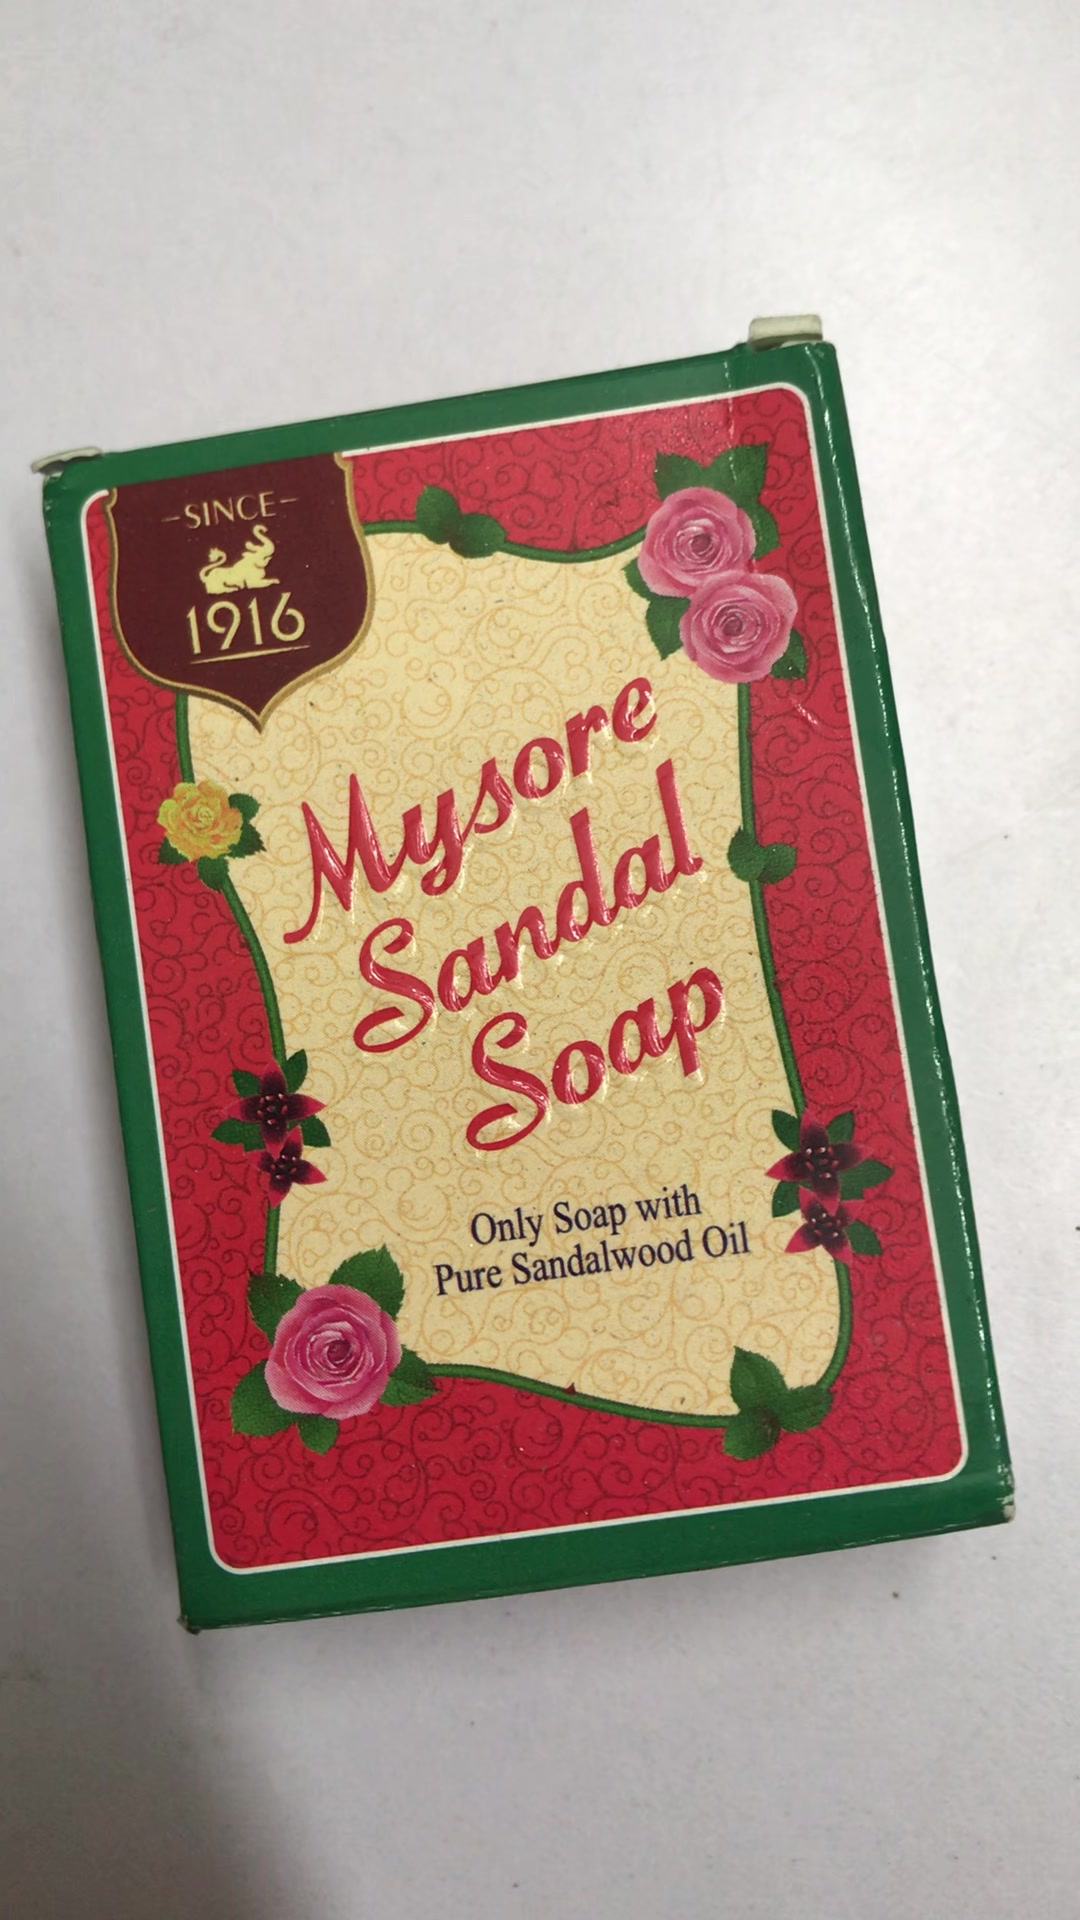mysore sandal soap: (49, 327, 1026, 1633)
